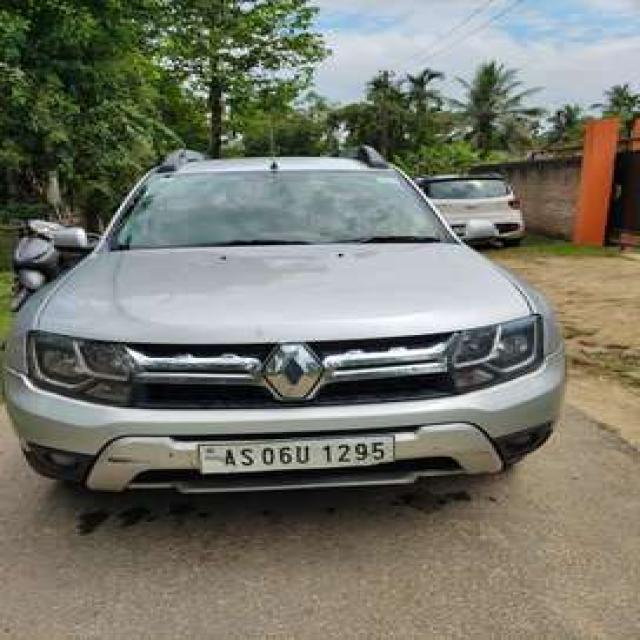plate: (195, 430, 398, 478)
